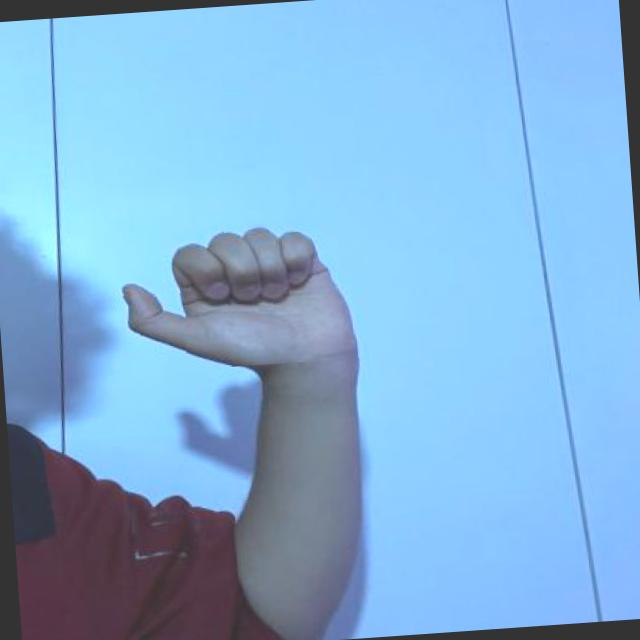E: (110, 211, 369, 374)
